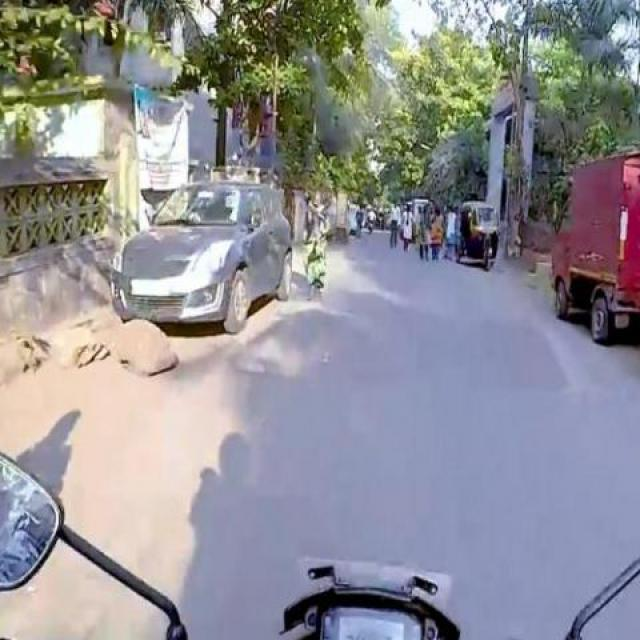Unmarked Bump: (252, 300, 608, 395)
